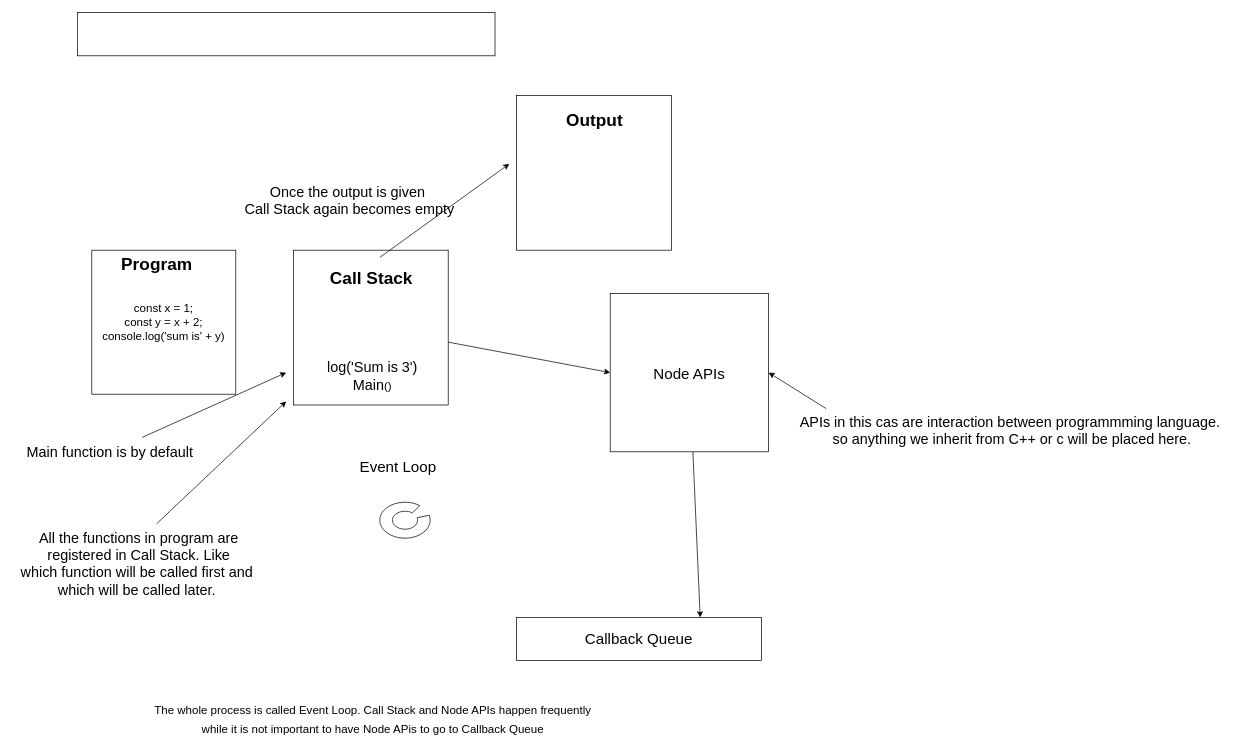
This 1241x752 diagram has some shape labels left out. The shapes that lost their labels are listed below. From the top down, each one's box as (x1, y1, x2, y2) in pixels, then its label:
(77, 12, 495, 56): Asynchronous Node.js
(516, 95, 671, 250): sum is 3
